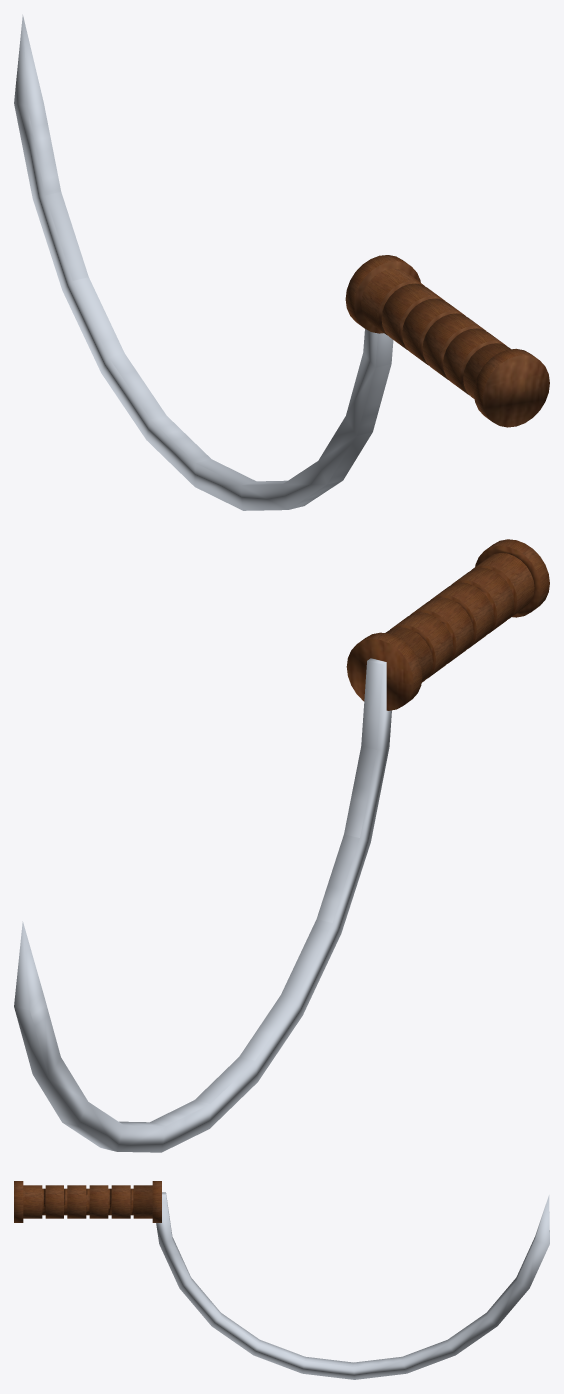
The model's file is sickle.glb.
3 renders of one model, top to bottom at view 1: azimuth 30°, elevation 25°; view 2: azimuth 150°, elevation 25°; view 3: azimuth 270°, elevation 25°, orthographic. The views are drawn at different scales.
Parts seen in each view (by area): view 1: afada117-89d1-4776-89e5-0159b798cd95; view 2: afada117-89d1-4776-89e5-0159b798cd95; view 3: afada117-89d1-4776-89e5-0159b798cd95.
Part boxes in pixels (left/top/right/bottom): afada117-89d1-4776-89e5-0159b798cd95: left=14, top=14, right=549, bottom=510; afada117-89d1-4776-89e5-0159b798cd95: left=14, top=539, right=549, bottom=1152; afada117-89d1-4776-89e5-0159b798cd95: left=14, top=1181, right=549, bottom=1379.
Bounding box in the file's own units: 3.12 × 15.94 × 39.81.
3 materials, 2 textured.
